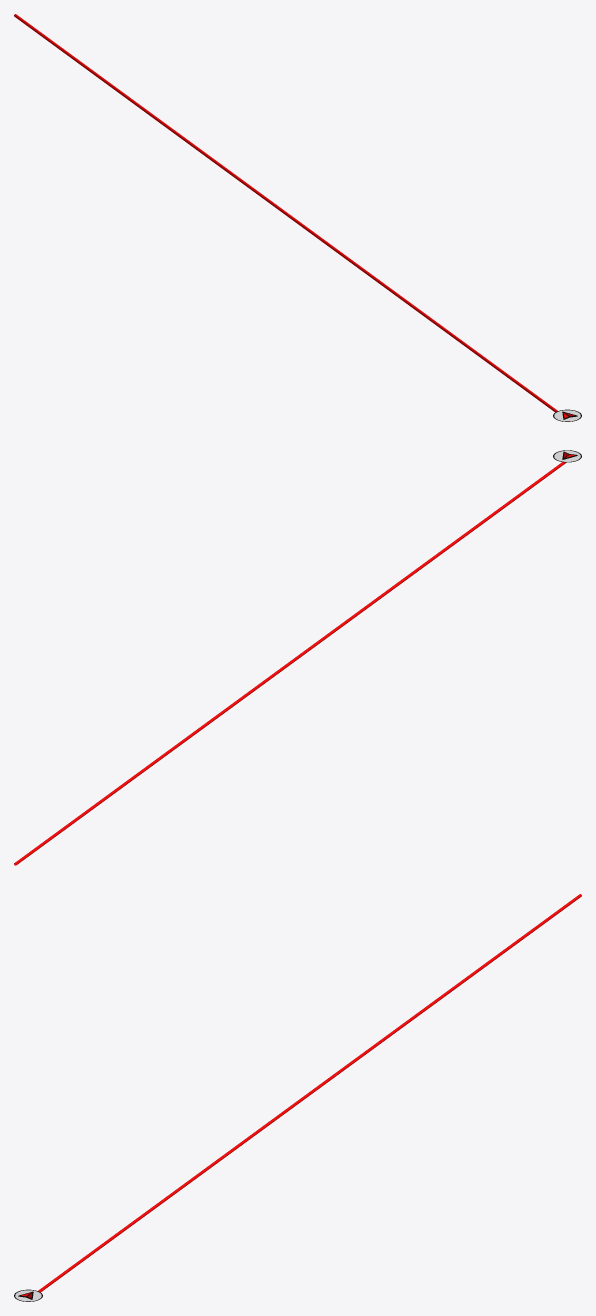
Rendered from route_3b5bc6d6-df29-46f6-8251-bf8b3dccdbcc_en_start.glb.
3 renders of one model, top to bottom at view 1: azimuth 30°, elevation 25°; view 2: azimuth 150°, elevation 25°; view 3: azimuth 330°, elevation 25°, orthographic.
Visible parts, largest first — view 1: Hauptaufzug; view 2: Hauptaufzug; view 3: Hauptaufzug.
Boxes of the visible parts, bbox=[...] form: Hauptaufzug: bbox=[14, 14, 557, 412]; Hauptaufzug: bbox=[14, 462, 566, 865]; Hauptaufzug: bbox=[38, 894, 581, 1292].
Bounding box in the file's own units: 0.4088 × 0.091 × 15.75.
